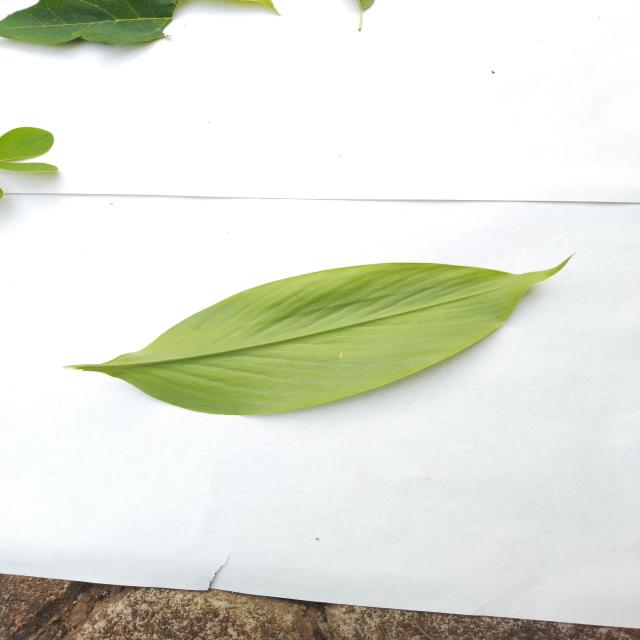turmeric: (68, 256, 570, 415)
